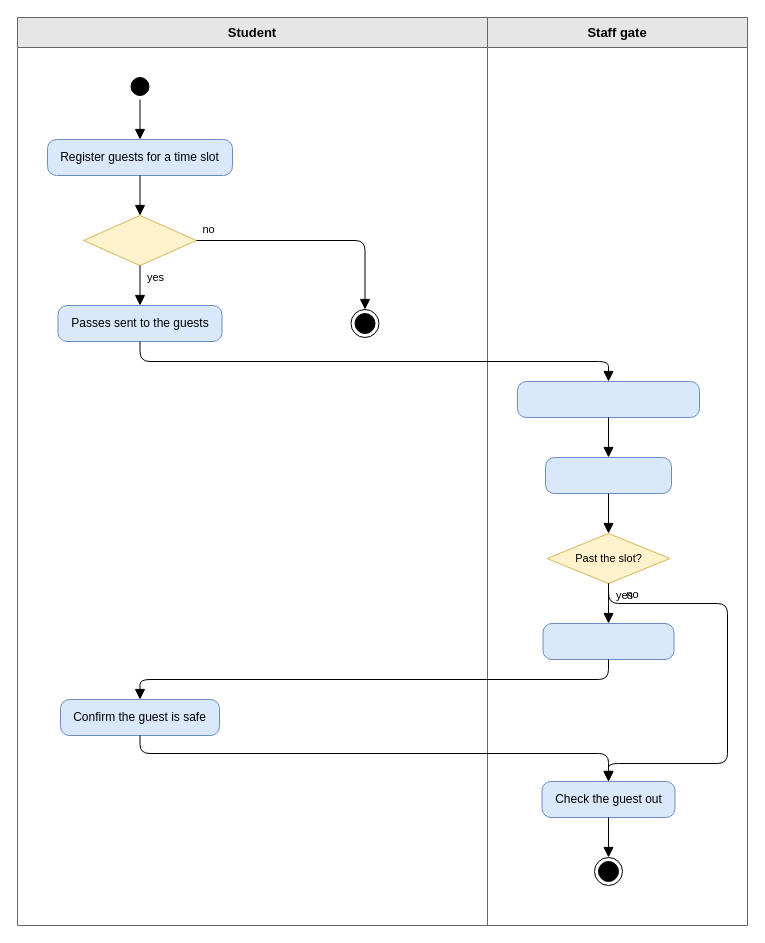
Some shapes in this 765 by 943 pixel diagram are drawn without their labels. Each missing label, with the centre of its shape:
Check the guest in: [608,475]
Places left?: [139,240]
Remind the student: [608,641]
Scan the pass, check identity: [608,399]
